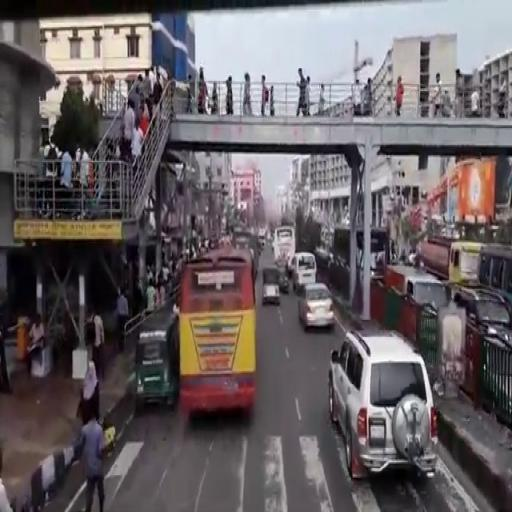bus: (179, 250, 259, 412), (333, 223, 391, 284), (477, 250, 512, 308), (232, 227, 259, 264), (274, 226, 295, 266)
car: (298, 280, 335, 327)
pickup: (385, 264, 452, 330)
suv: (329, 327, 440, 478), (454, 282, 512, 370)
three wheelers (CNG): (135, 310, 180, 405), (262, 264, 281, 303)
truck: (416, 234, 486, 297)
van: (292, 251, 318, 287)
